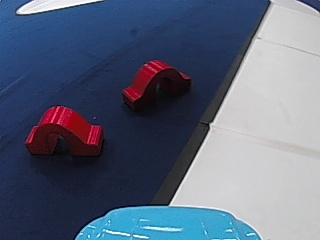bridge: (21, 100, 108, 159), (121, 60, 192, 113)
